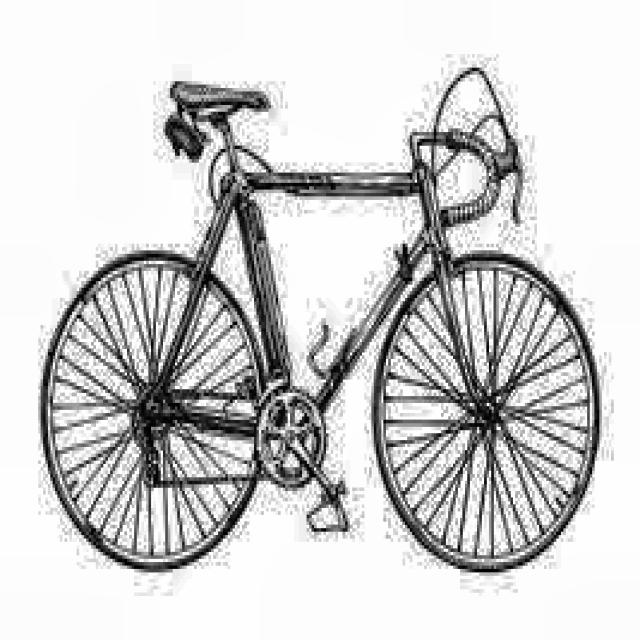bicycle: (22, 49, 604, 585)
